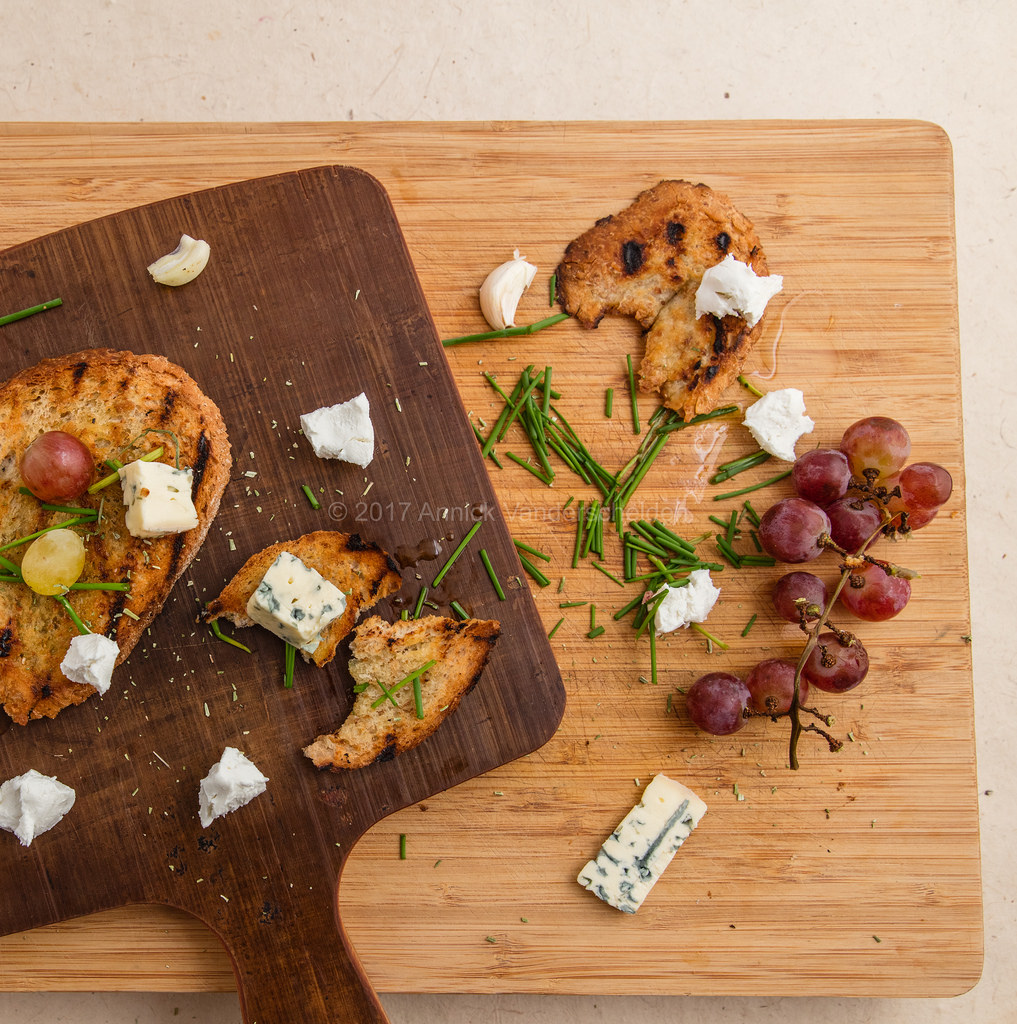slice of bread: (26, 366, 190, 686)
